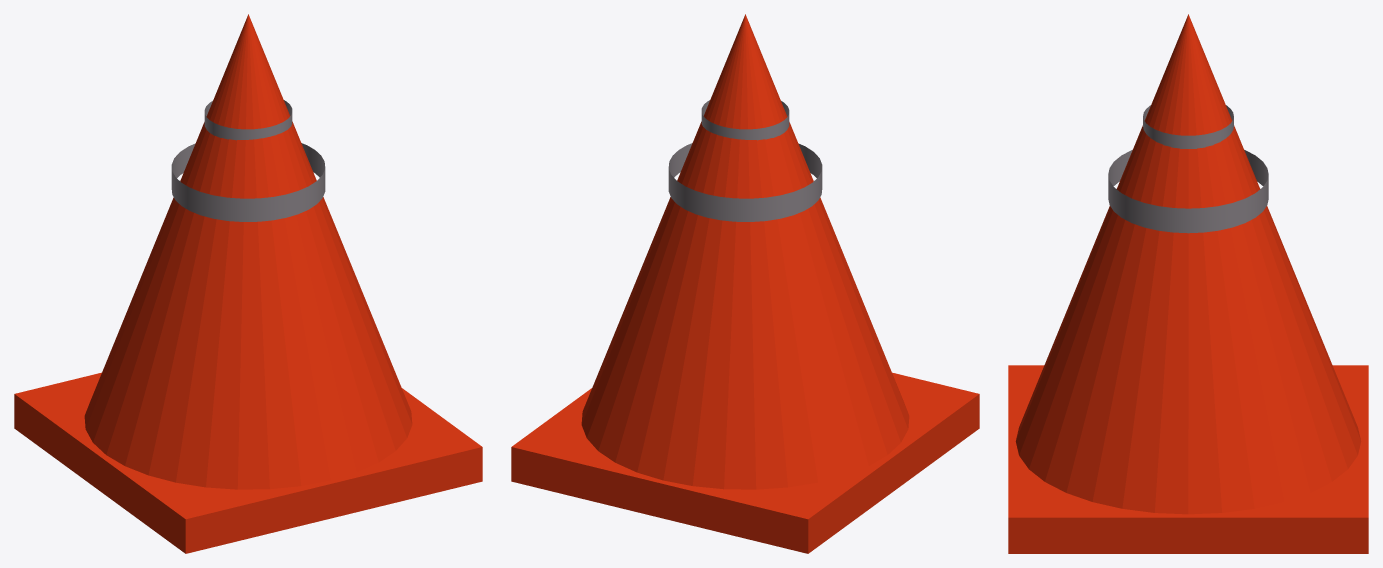
The model's file is trafficCone.fbx.
3 views of the same model, side by side, from view 1: azimuth 30°, elevation 25°; view 2: azimuth 150°, elevation 25°; view 3: azimuth 270°, elevation 25° (orthographic). The views are drawn at different scales.
Parts seen in each view (by area): view 1: Cone, Cube, SurfCylinder, SurfCylinder.001; view 2: Cone, Cube, SurfCylinder, SurfCylinder.001; view 3: Cone, Cube, SurfCylinder, SurfCylinder.001.
Part boxes in pixels (box(x1,y1,x2,y2)): Cone: box(84, 14, 412, 489); Cube: box(14, 372, 482, 553); SurfCylinder: box(171, 143, 325, 221); SurfCylinder.001: box(204, 100, 292, 140); Cone: box(581, 14, 909, 489); Cube: box(511, 372, 979, 553); SurfCylinder: box(668, 143, 822, 221); SurfCylinder.001: box(701, 100, 789, 140); Cone: box(1015, 14, 1361, 514); Cube: box(1008, 365, 1368, 553); SurfCylinder: box(1108, 150, 1268, 233); SurfCylinder.001: box(1143, 105, 1233, 148).
Size of the model in its own units: 200 by 284 by 200.
